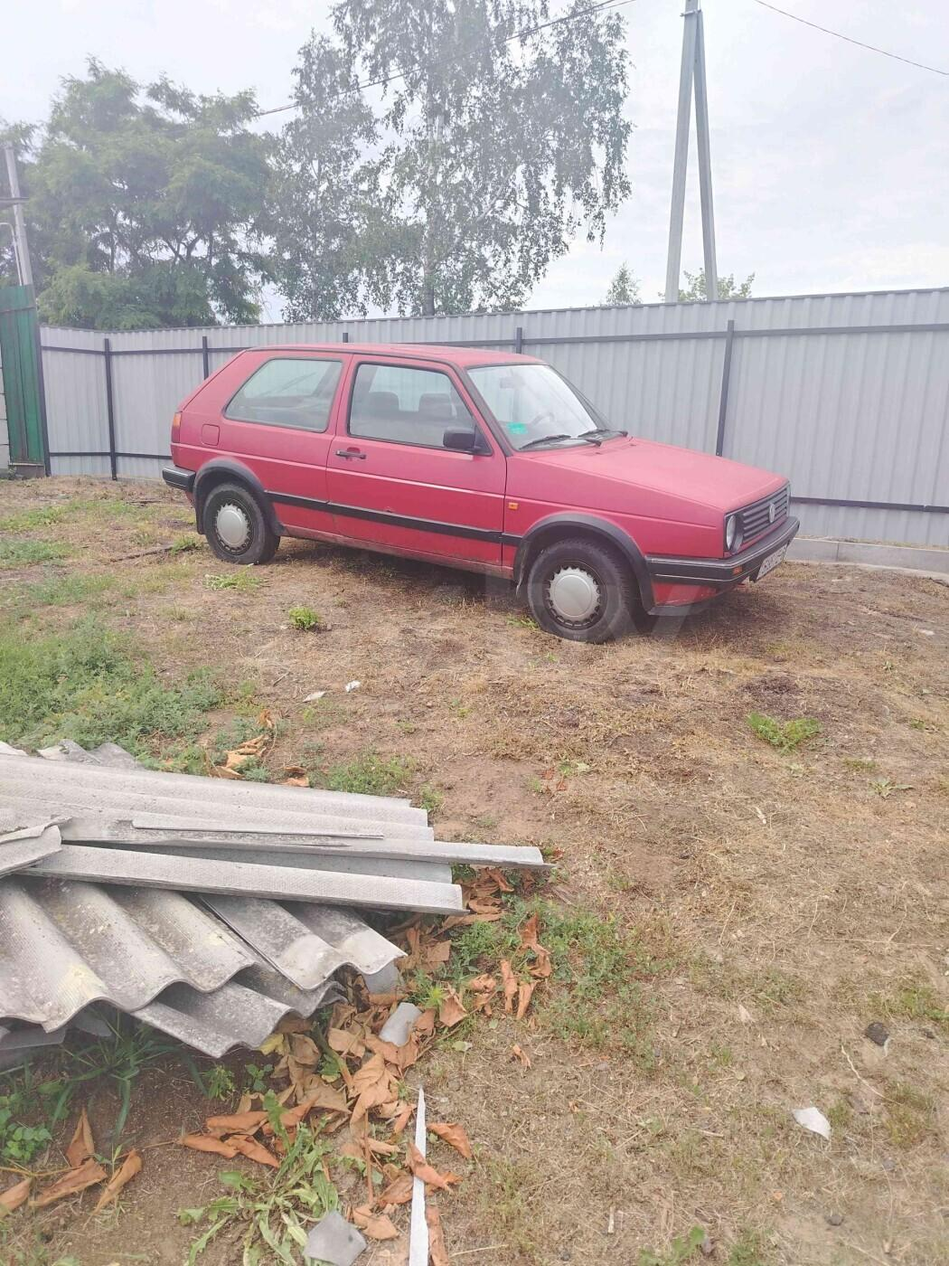Golf_1983-1992: (166, 338, 801, 638)
